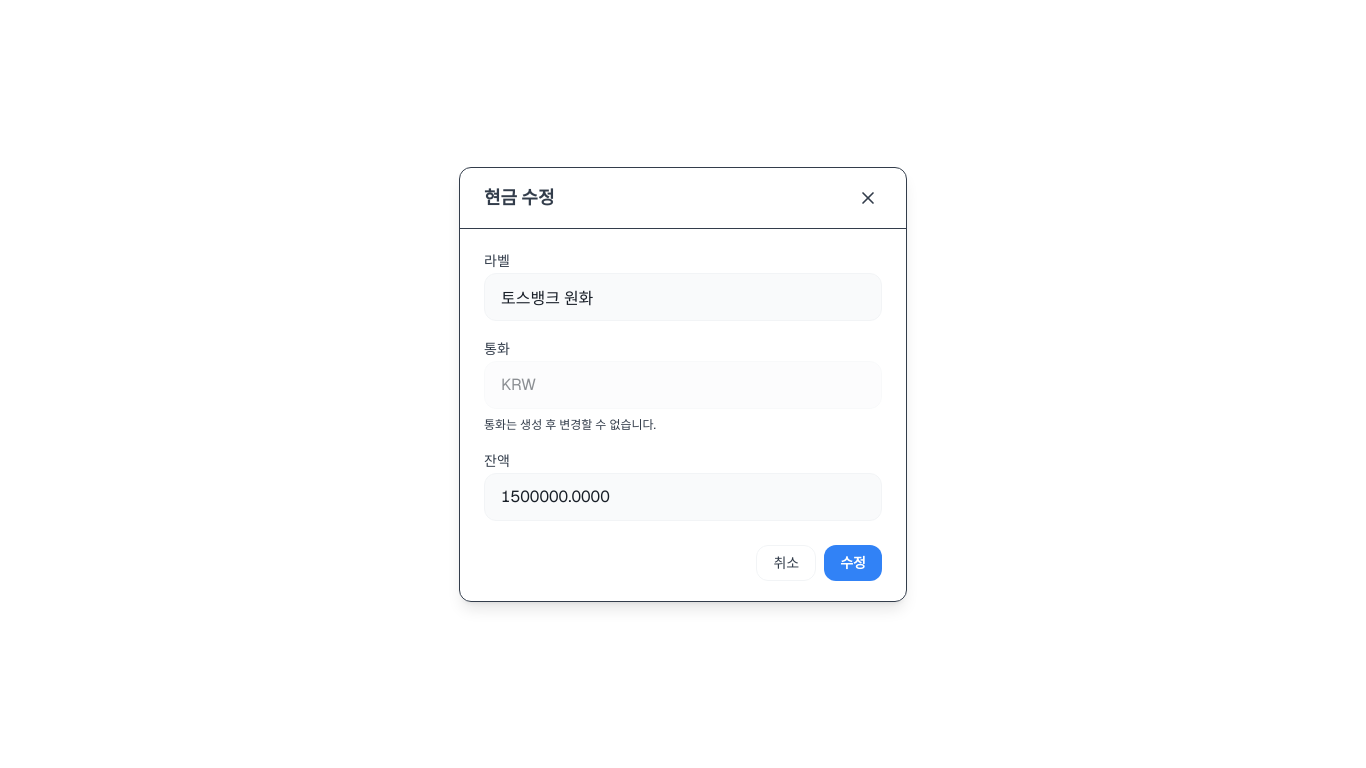
CashAccountEditDialog › 폼 검증 › 음수 잔액 입력 시 에러가 표시된다
Replace the text in the field named "계좌 잔액" with "-100" at coordinates (683, 496), box [484,472,882,520]
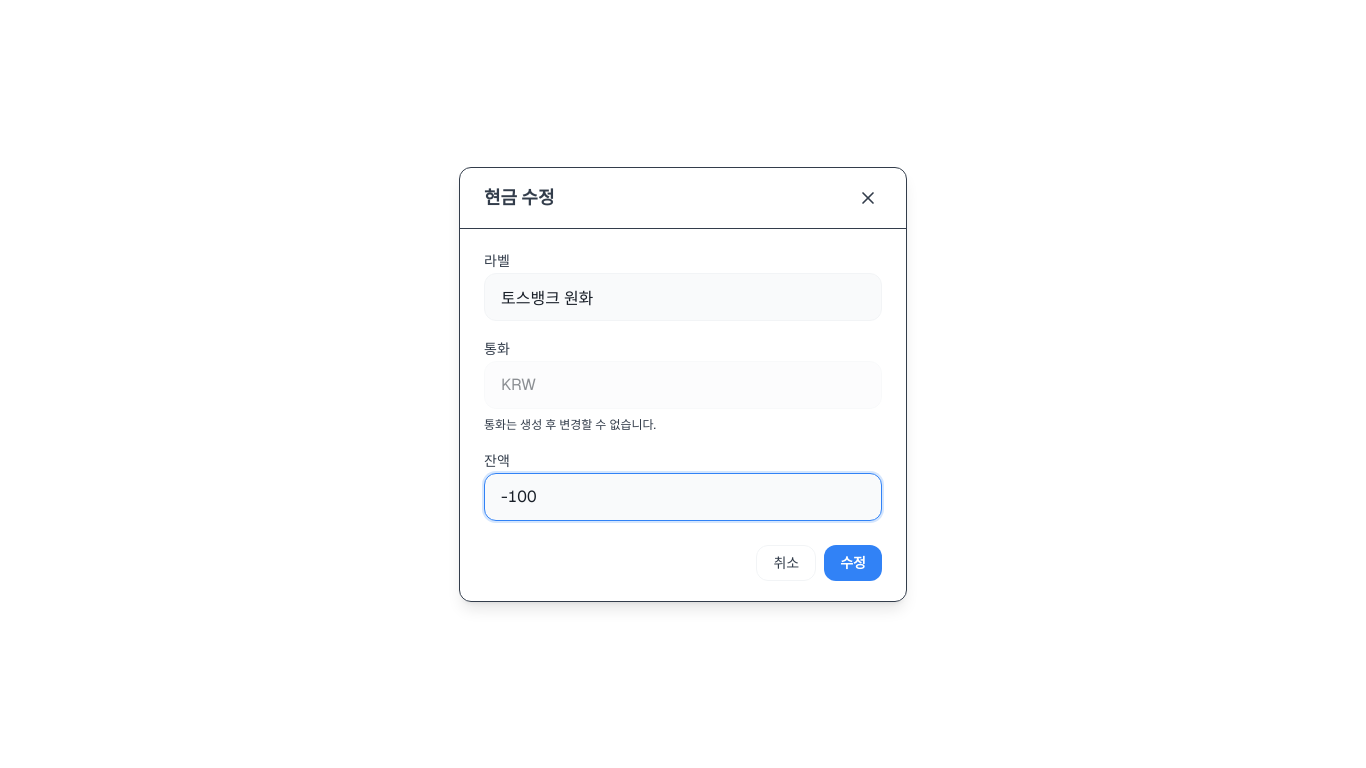
Click the button "수정".
click(853, 562)  # box [824,544,882,580]
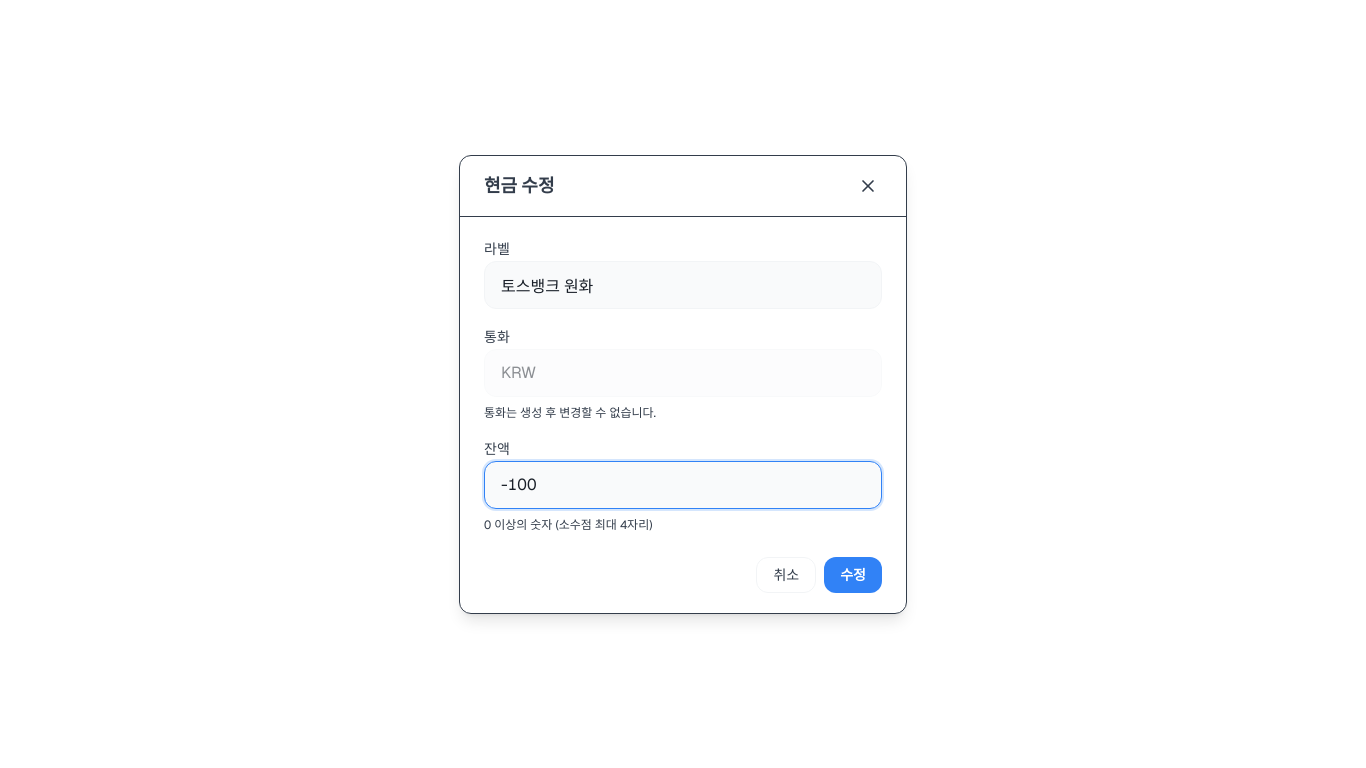
Expected: the text "0 이상의 숫자 (소수점 최대 4자리)" is shown, [484,516,652,532]
